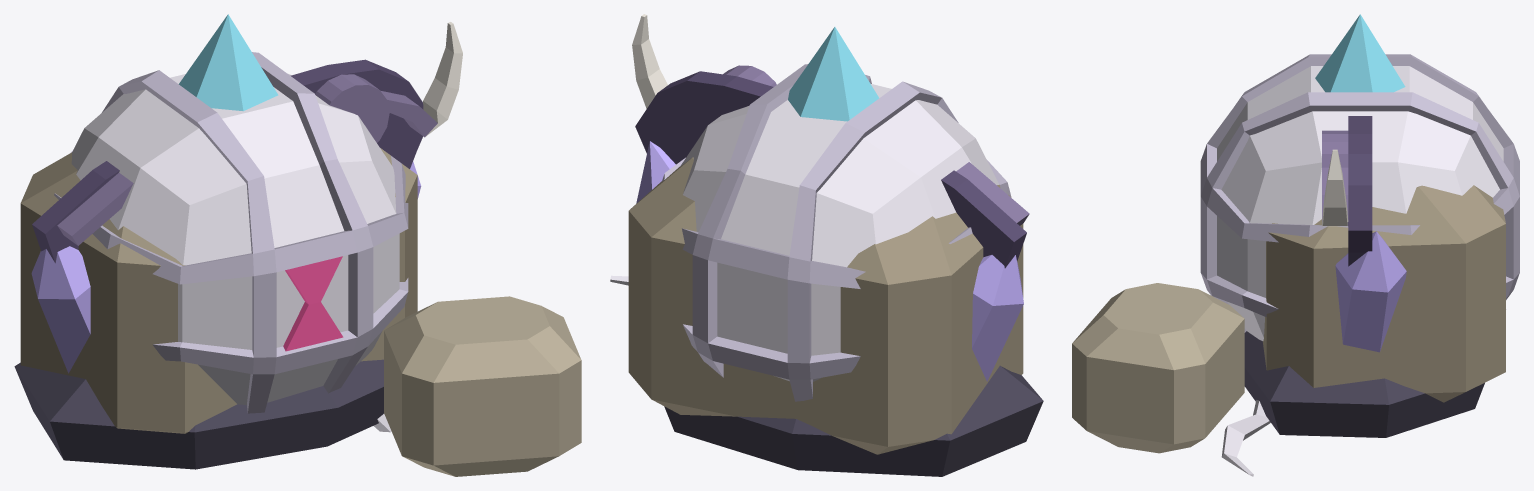
Rendered from w3_craftmaterials.fbx.
3 views of the same model, side by side, from view 1: azimuth 30°, elevation 25°; view 2: azimuth 150°, elevation 25°; view 3: azimuth 270°, elevation 25° (orthographic). The views are drawn at different scales.
Visible parts, largest first — view 1: QueensSilk.Silk, GolemPebble.SmallPebble, QueensSilk.Web, GolemPebble.Pebble, GolemCrystal.Rock, BatWing.Membrane, BatWing.Bones, GolemCrystal.Crystal, GolemCrystal.Crystals, QueensSilk.Hourglass, BatWing.Claw; view 2: GolemPebble.Pebble, QueensSilk.Silk, QueensSilk.Web, GolemCrystal.Rock, BatWing.Membrane, GolemCrystal.Crystals, GolemCrystal.Crystal, BatWing.Bones, BatWing.Claw; view 3: GolemPebble.Pebble, QueensSilk.Silk, GolemPebble.SmallPebble, QueensSilk.Web, GolemCrystal.Rock, GolemCrystal.Crystals, GolemCrystal.Crystal, BatWing.Membrane, BatWing.Claw, BatWing.Bones.
Part boxes in pixels (box(x1,y1,x2,y2)): QueensSilk.Silk: box(71, 74, 399, 432); GolemPebble.SmallPebble: box(384, 296, 581, 476); QueensSilk.Web: box(54, 52, 408, 413); GolemPebble.Pebble: box(20, 148, 417, 433); GolemCrystal.Rock: box(14, 359, 383, 469); BatWing.Membrane: box(32, 59, 423, 263); BatWing.Bones: box(57, 74, 437, 245); GolemCrystal.Crystal: box(179, 14, 278, 111); GolemCrystal.Crystals: box(31, 161, 421, 373); QueensSilk.Hourglass: box(283, 256, 343, 351); BatWing.Claw: box(423, 22, 462, 136); GolemPebble.Pebble: box(628, 157, 1023, 454); QueensSilk.Silk: box(610, 84, 999, 381); QueensSilk.Web: box(661, 64, 1011, 401); GolemCrystal.Rock: box(664, 365, 1043, 476); BatWing.Membrane: box(635, 71, 1026, 268); GolemCrystal.Crystals: box(636, 141, 1023, 381); GolemCrystal.Crystal: box(788, 27, 878, 121); BatWing.Bones: box(723, 65, 1029, 225); BatWing.Claw: box(632, 14, 667, 108); GolemPebble.Pebble: box(1262, 185, 1505, 402); QueensSilk.Silk: box(1217, 66, 1503, 476); GolemPebble.SmallPebble: box(1072, 283, 1244, 453); QueensSilk.Web: box(1200, 54, 1519, 332); GolemCrystal.Rock: box(1244, 331, 1484, 437); GolemCrystal.Crystals: box(1335, 231, 1406, 352); GolemCrystal.Crystal: box(1315, 14, 1405, 92); BatWing.Membrane: box(1348, 116, 1372, 266); BatWing.Claw: box(1322, 149, 1348, 226); BatWing.Bones: box(1322, 130, 1348, 225).
Bounding box in the file's own units: 0.9236 × 0.7368 × 0.8205.
